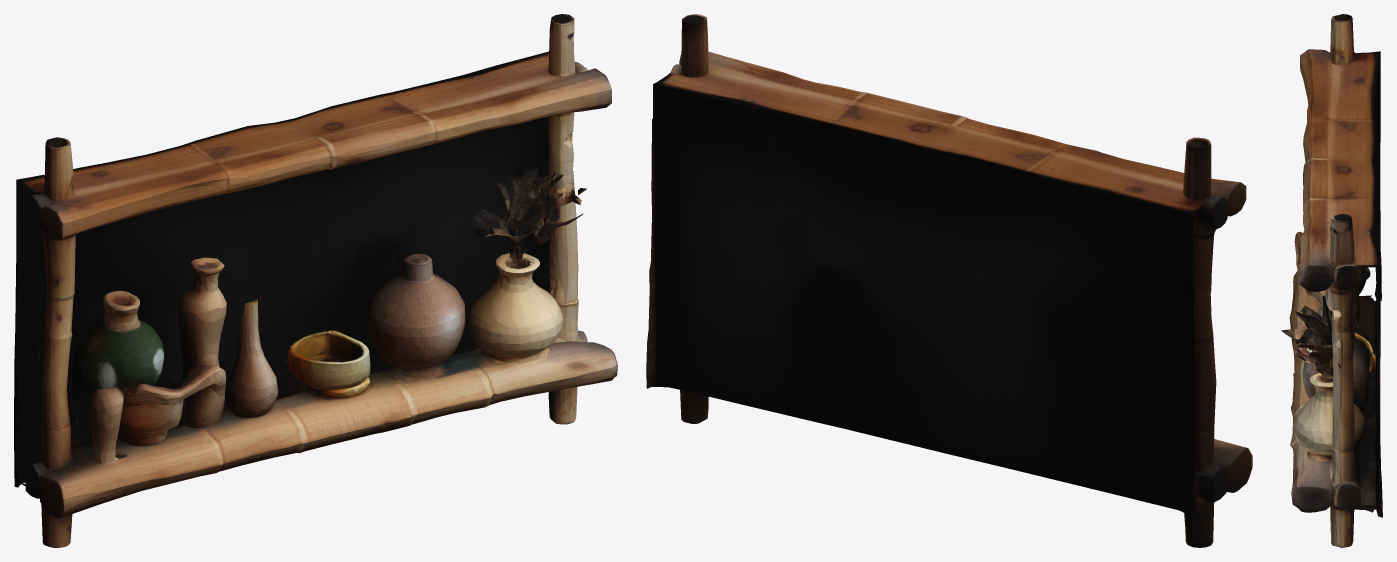
Rendered from bamboo-wall-shelf-rustic.jpeg.glb.
3 renders of one model, left to right at view 1: azimuth 30°, elevation 25°; view 2: azimuth 150°, elevation 25°; view 3: azimuth 270°, elevation 25°, orthographic. The views are drawn at different scales.
Parts seen in each view (by area): view 1: world; view 2: world; view 3: world.
Part boxes in pixels (x1=…): world: x1=14, y1=14, x2=617, y2=547; world: x1=646, y1=14, x2=1252, y2=547; world: x1=1281, y1=14, x2=1382, y2=547.
Bounding box in the file's own units: 1 × 0.6911 × 0.1959.
1 material, 1 textured.
